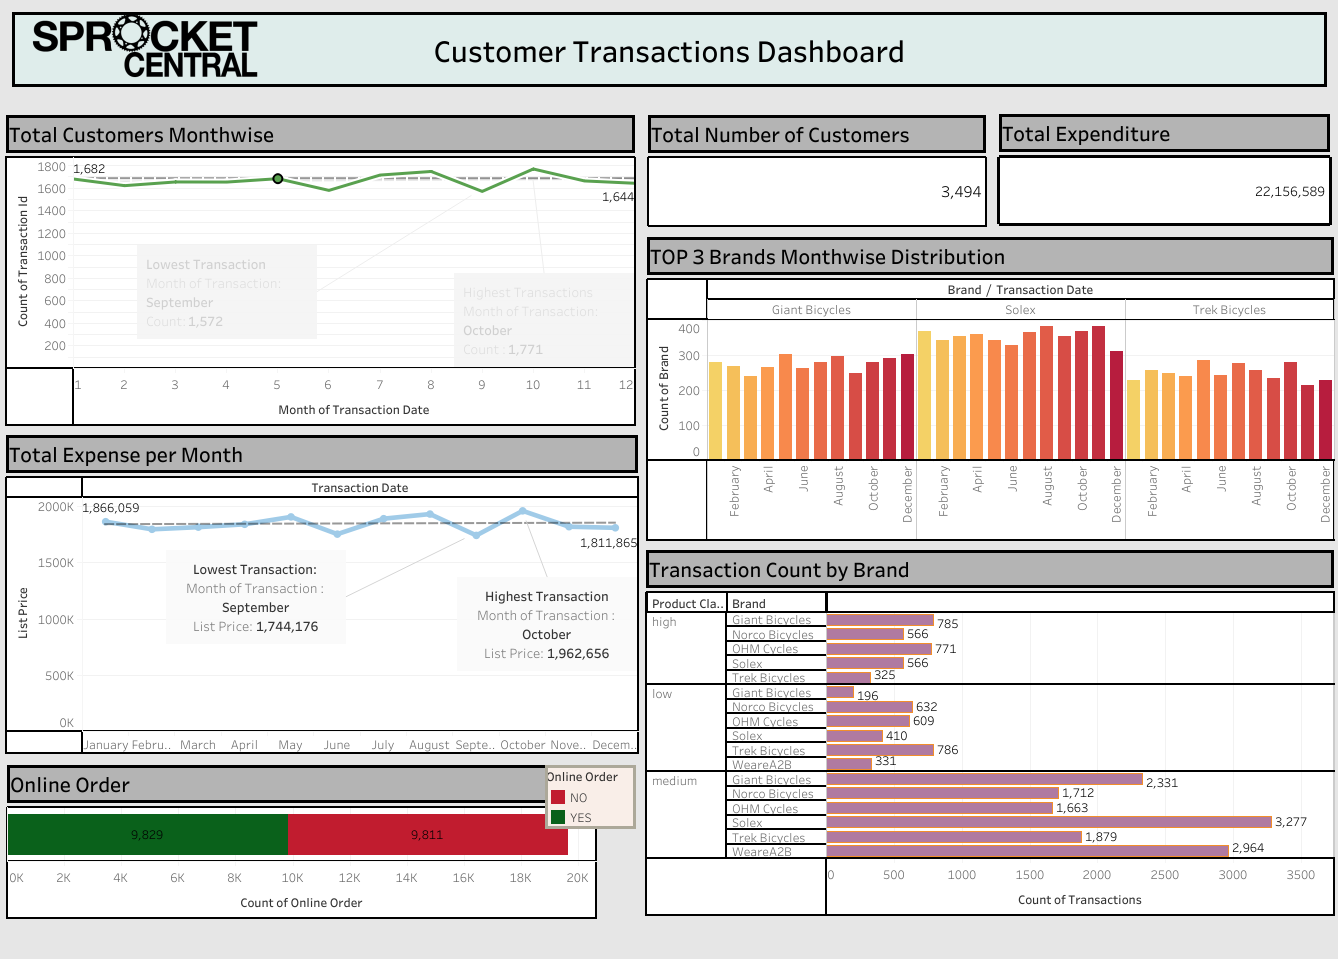

The dashboard page shown, as its layout file describes it:
{"tool":"tableau","page":{"name":"Transaction","canvas":[1000,1000],"units":"permille","ordinal":1},"visuals":[{"type":"title","box":[7.1,8.3,985.7,86.5]},{"type":"image","param":"Image/sprocket_central_logo.png","box":[23.9,13.5,200.7,83.3]},{"type":"worksheet","title":"Total Expenditure","mark":"Automatic","box":[744.4,118.8,250.7,116.7]},{"type":"worksheet","title":"Total Customers Monthwise","mark":"Automatic","rows":["transaction_id"],"cols":["transaction_date"],"box":[3.5,119.8,471.8,324]},{"type":"worksheet","title":"No. Of Cust","mark":"Automatic","box":[483.1,119.8,254.2,116.7]},{"type":"worksheet","title":"Top 3","mark":"Bar","rows":["brand"],"cols":["brand","transaction_date"],"box":[482.4,246.9,514.8,316.7]},{"type":"worksheet","title":"Total exp per month","mark":"Automatic","rows":["list_price"],"cols":["transaction_date"],"box":[3.5,453.1,473.9,332.3]},{"type":"worksheet","title":"Transaction Count by Brand","mark":"Automatic","rows":["product_class","brand"],"cols":["customer_id (Transactions)"],"box":[481.7,572.9,515.5,381.2]},{"type":"worksheet","title":"Order Type","mark":"Automatic","cols":["online_order"],"box":[4.2,796.9,471.1,199]},{"type":"legend","title":"Order Type","param":"[federated.04btkn916c85ns109ml6x0b6sb5q].[none:online_order:nk]","box":[407.1,796.9,67.9,66.7]}]}

Visuals, with their boxes on the dashboard's canvas, which has no fixed pixel size, in thousandths of its width and height (x1, y1, x2, y2). These are canvas units, not pixel positions in the 1338x959 screenshot, which may show the page scaled, cropped or inside an application window:
title: select_region(7, 8, 993, 95)
image: select_region(24, 14, 225, 97)
"Total Expenditure" worksheet: select_region(744, 119, 995, 236)
"Total Customers Monthwise" worksheet: select_region(4, 120, 475, 444)
"No. Of Cust" worksheet: select_region(483, 120, 737, 236)
"Top 3" worksheet (Bar marks): select_region(482, 247, 997, 564)
"Total exp per month" worksheet: select_region(4, 453, 477, 785)
"Transaction Count by Brand" worksheet: select_region(482, 573, 997, 954)
"Order Type" worksheet: select_region(4, 797, 475, 996)
"Order Type" legend: select_region(407, 797, 475, 864)
